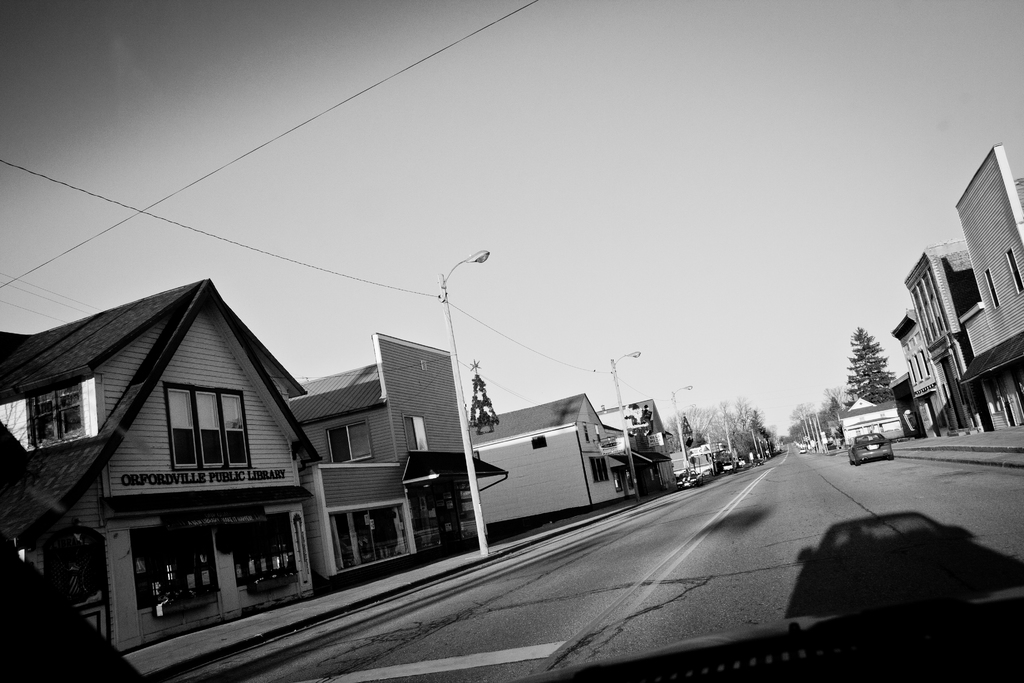mobil: (845, 433, 905, 468)
